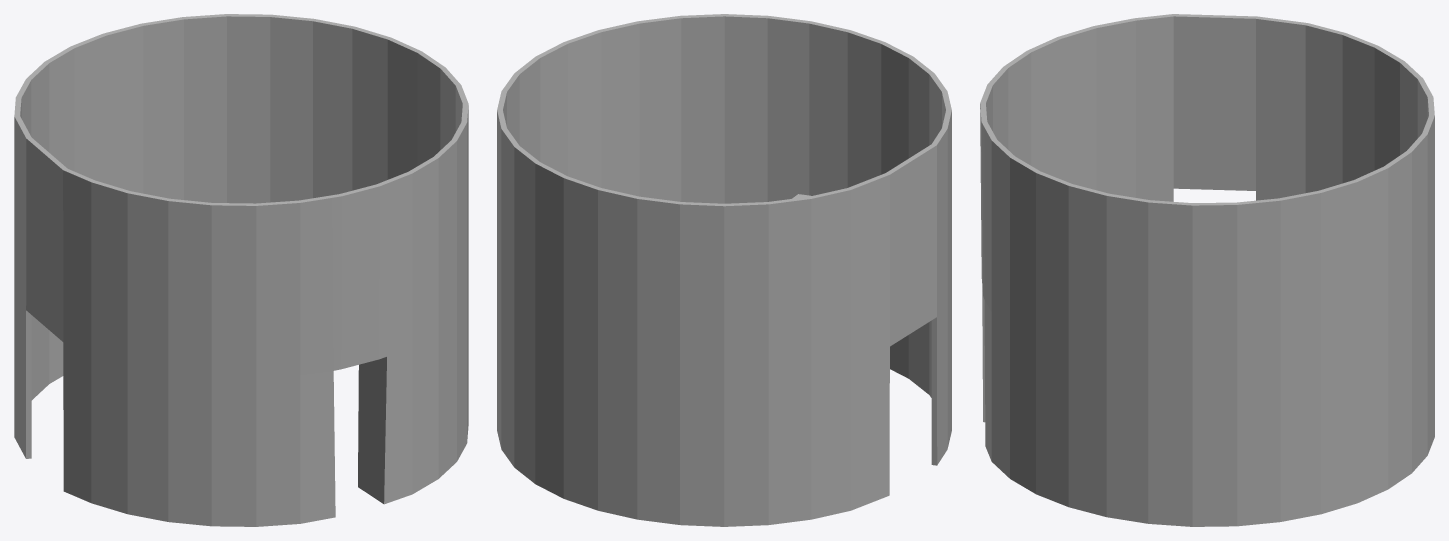
The model's file is chungju_settingcolider 1.fbx.
3 views of the same model, side by side, from view 1: azimuth 30°, elevation 25°; view 2: azimuth 150°, elevation 25°; view 3: azimuth 270°, elevation 25° (orthographic).
Parts seen in each view (by area): view 1: Cylinder.001; view 2: Cylinder.001; view 3: Cylinder.001.
Part boxes in pixels (box(x1,y1,x2,y2)): Cylinder.001: box(14, 14, 468, 526); Cylinder.001: box(497, 14, 951, 526); Cylinder.001: box(980, 14, 1434, 526).
Size of the model in its own units: 3613 by 2826 by 3624.
